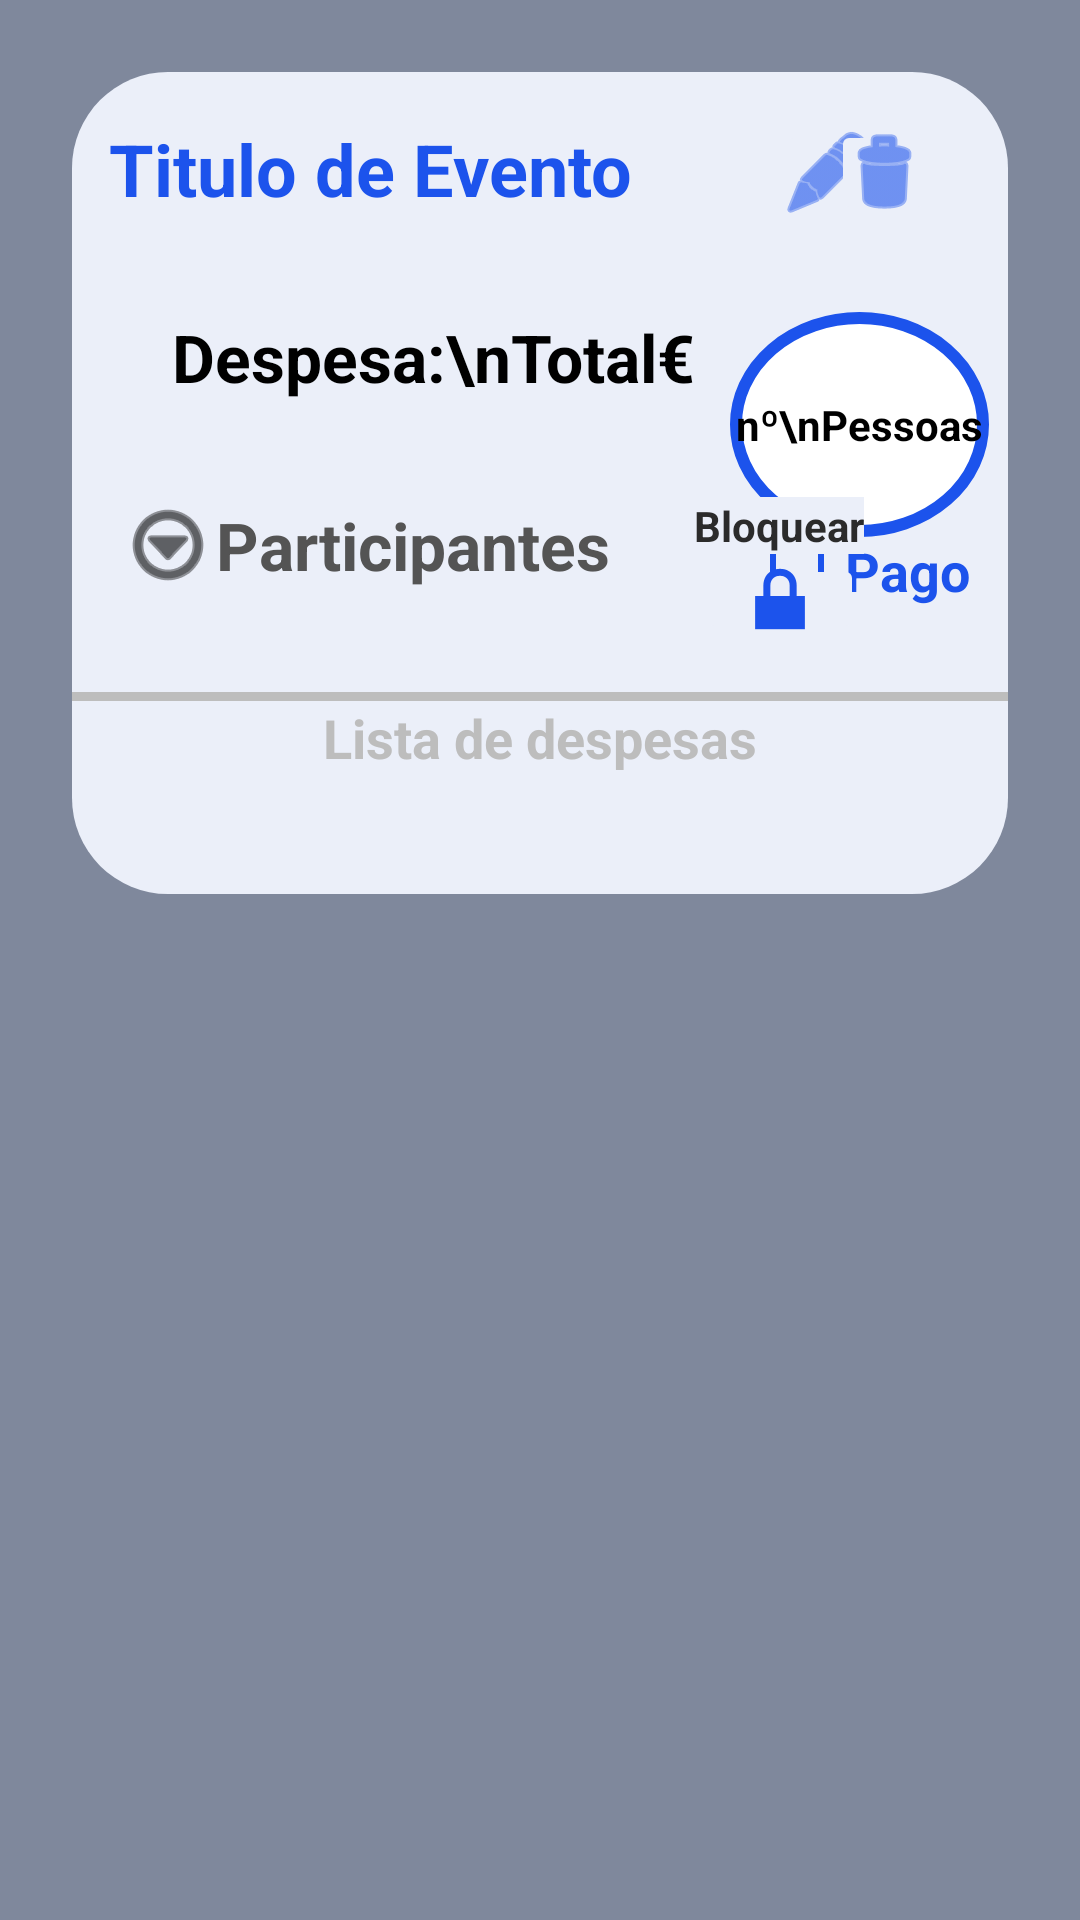

Named icons in this screenshot (1080w x 1920h) and their bounding boxes, (x1, y1, x2, y2):
delete: (857, 134, 912, 209)
edit: (787, 132, 864, 213)
more: (132, 509, 204, 581)
